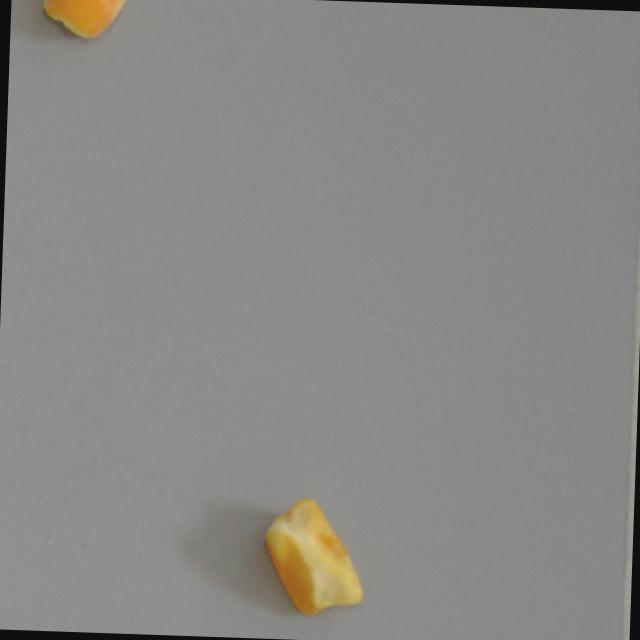estandar: (261, 496, 366, 618)
pelicula: (38, 0, 127, 38)
